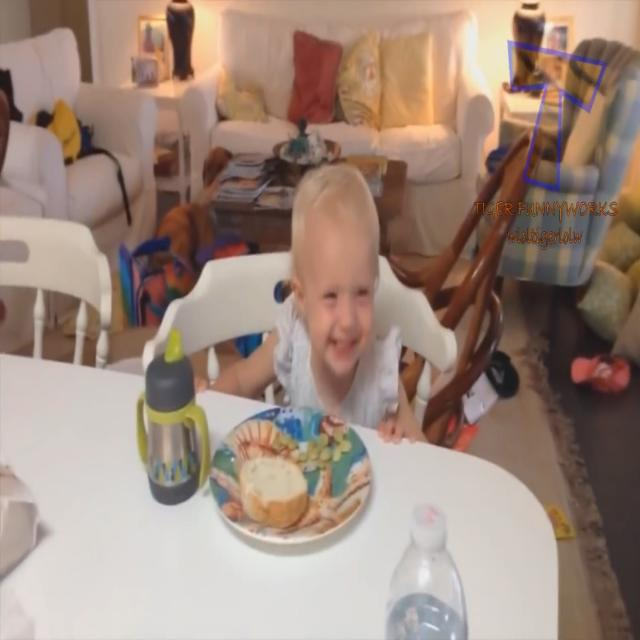safe: (215, 162, 407, 420)
